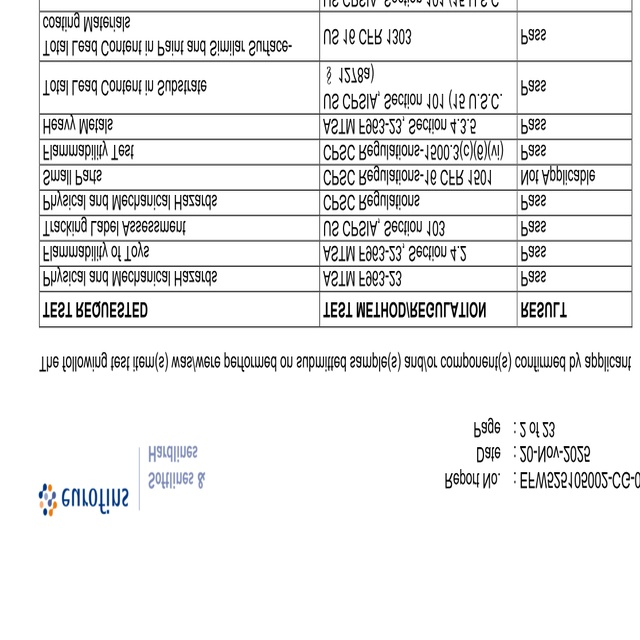eurofins: (32, 478, 136, 526)
